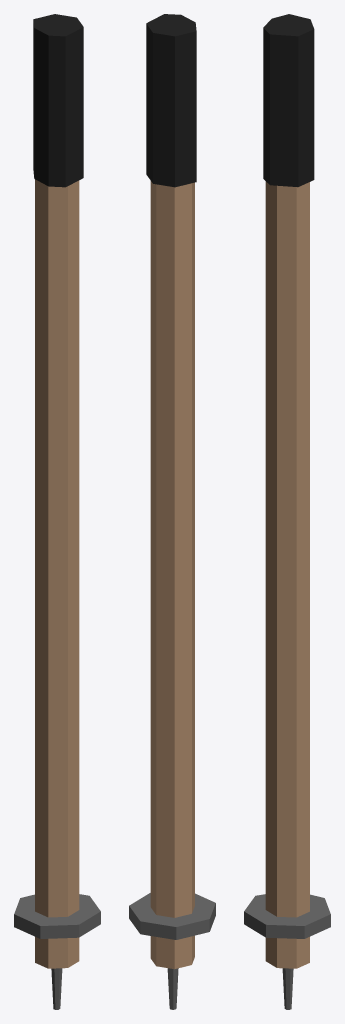
File: skiStickWeapon.glb
The picture shows the model from 3 angles, left to right: view 1: azimuth 30°, elevation 25°; view 2: azimuth 210°, elevation 25°; view 3: azimuth 330°, elevation 25°; orthographic projection.
Parts seen in each view (by area): view 1: SkiStick; view 2: SkiStick; view 3: SkiStick.
Part boxes in pixels (x1,y1,x2,y2): SkiStick: [14, 14, 100, 1009]; SkiStick: [129, 14, 215, 1009]; SkiStick: [244, 14, 330, 1009].
Bounding box in the file's own units: 0.0737 × 0.9173 × 0.0711.
Materials: 1 (1 with a texture image).
